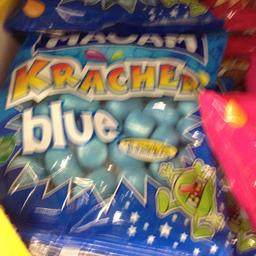candy: (12, 25, 218, 250)
